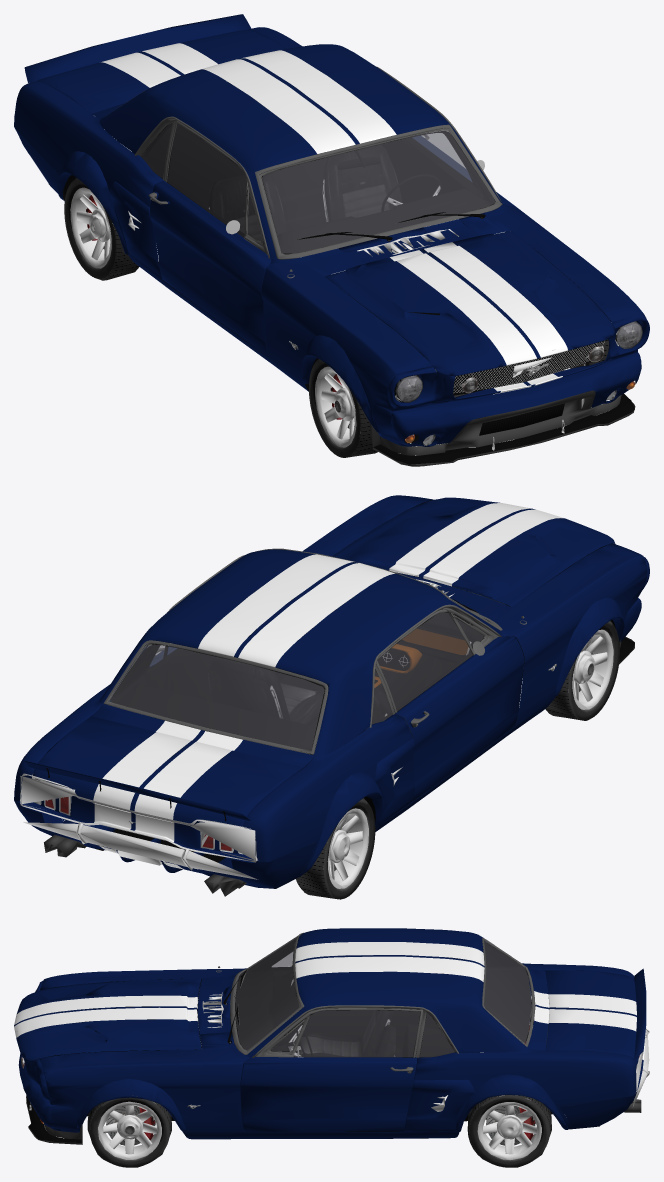
The model's file is mustang.glb.
3 renders of one model, top to bottom at view 1: azimuth 30°, elevation 25°; view 2: azimuth 150°, elevation 25°; view 3: azimuth 270°, elevation 25°, orthographic. The views are drawn at different scales.
Parts seen in each view (by area): view 1: object 3, object 8, object 4, object 1, object 7, object 28, object 6, object 18, WFR, WRR, object 2, object 34 (+3 smaller); view 2: object 3, object 4, object 8, object 1, object 10, object 7, object 28, WRR, WFR, object 6, object 21, object 11 (+2 smaller); view 3: object 3, object 8, object 4, object 1, WRL, WFL, object 28, object 6, object 7, object 10, object 2, object 18.
Boxes of the visible parts, x1=… form: object 3: x1=14, y1=14, x2=649, y2=446; object 8: x1=141, y1=61, x2=641, y2=443; object 4: x1=101, y1=43, x2=568, y2=394; object 1: x1=141, y1=82, x2=611, y2=394; object 7: x1=208, y1=145, x2=402, y2=242; object 28: x1=120, y1=66, x2=502, y2=278; object 6: x1=278, y1=150, x2=495, y2=254; object 18: x1=369, y1=321, x2=642, y2=466; WFR: x1=306, y1=353, x2=403, y2=457; WRR: x1=64, y1=178, x2=139, y2=280; object 2: x1=49, y1=175, x2=634, y2=464; object 34: x1=453, y1=341, x2=604, y2=393; object 3: x1=14, y1=495, x2=649, y2=888; object 4: x1=93, y1=503, x2=563, y2=869; object 8: x1=109, y1=612, x2=488, y2=750; object 1: x1=110, y1=499, x2=606, y2=764; object 10: x1=20, y1=579, x2=471, y2=879; object 7: x1=208, y1=656, x2=412, y2=738; object 28: x1=104, y1=548, x2=526, y2=754; WRR: x1=296, y1=794, x2=375, y2=899; WFR: x1=515, y1=616, x2=619, y2=720; object 6: x1=46, y1=599, x2=490, y2=821; object 21: x1=291, y1=599, x2=468, y2=687; object 11: x1=44, y1=834, x2=246, y2=896; object 3: x1=14, y1=928, x2=646, y2=1139; object 8: x1=235, y1=938, x2=531, y2=1057; object 4: x1=14, y1=942, x2=646, y2=1059; object 1: x1=35, y1=937, x2=531, y2=1060; WRL: x1=467, y1=1095, x2=551, y2=1167; WFL: x1=87, y1=1095, x2=171, y2=1167; object 28: x1=216, y1=932, x2=535, y2=1073; object 6: x1=223, y1=968, x2=313, y2=1057; object 7: x1=300, y1=1008, x2=395, y2=1057; object 10: x1=17, y1=992, x2=649, y2=1111; object 2: x1=26, y1=996, x2=599, y2=1142; object 18: x1=23, y1=1088, x2=82, y2=1144.
Bounding box in the file's own units: 1.86 × 1.33 × 4.64.
Materials: 39 (15 with a texture image).
